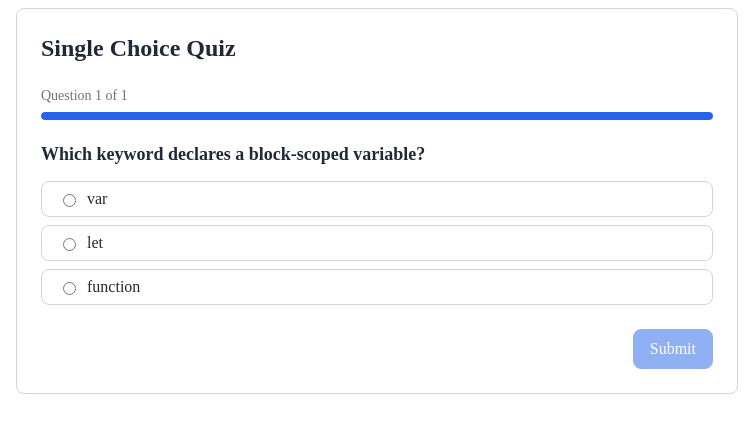
Quiz › finishPage title override replaces tier headline
The image size is (755, 448).
Click the radio button labelled "let". click: (70, 245)
box: [63,238,76,251]
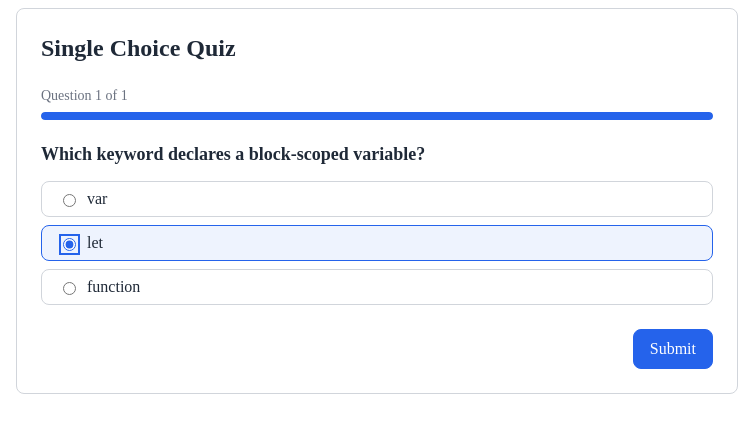
Click the button "Submit". click: (673, 349)
box: [633,329,713,369]
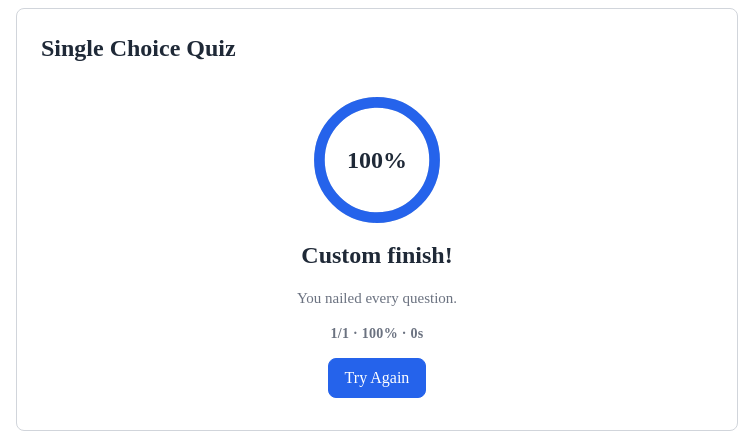
Expected: the heading "Custom finish!" is shown, [301,240,453,271]
